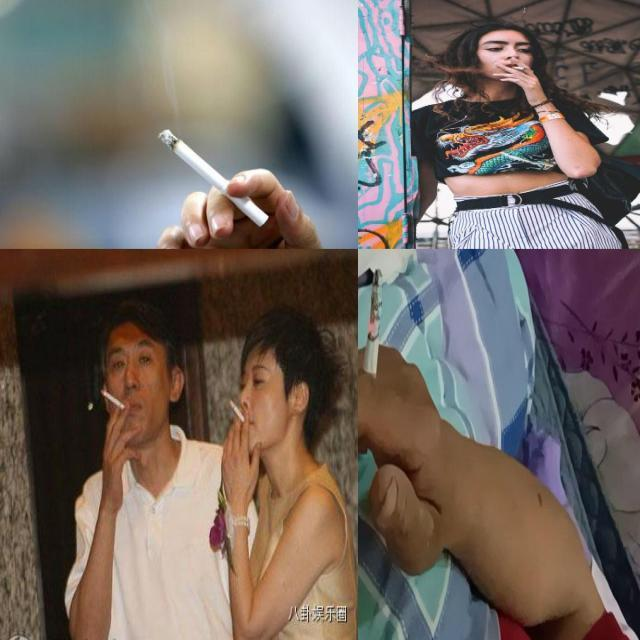smoking: (158, 128, 270, 228), (358, 268, 384, 454), (99, 388, 127, 411), (228, 398, 246, 424), (508, 62, 528, 70)
